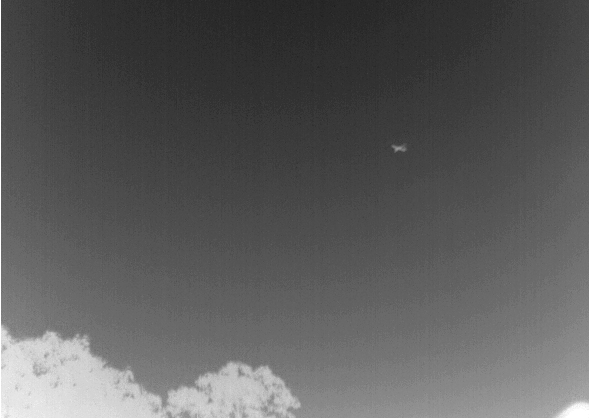dim target: (391, 143, 407, 154)
